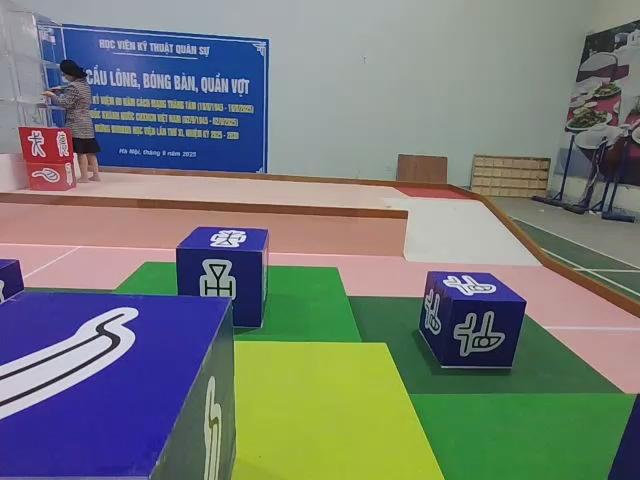R2 Real Blue: (1, 283, 236, 479), (419, 271, 527, 370), (176, 227, 269, 329)
